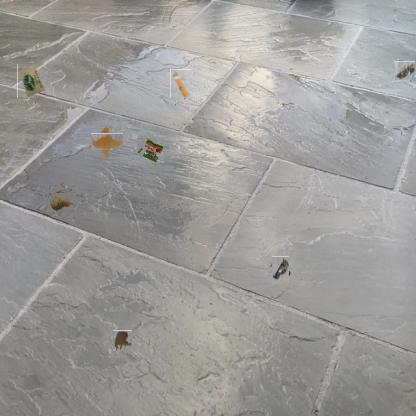dirty: (17, 64, 46, 98), (136, 137, 164, 163), (170, 69, 191, 98), (50, 190, 74, 214), (270, 258, 291, 280), (394, 60, 416, 81)
liquid: (95, 130, 120, 154), (112, 331, 133, 351)
